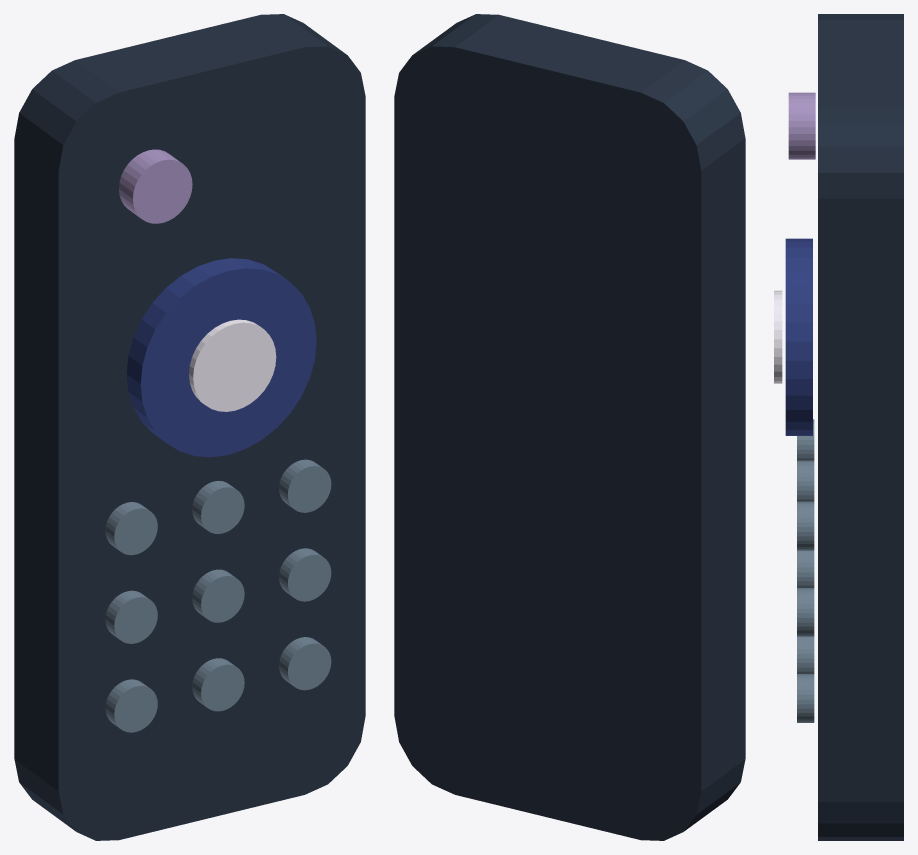
The model's file is remote.glb.
The picture shows the model from 3 angles, left to right: view 1: azimuth 30°, elevation 25°; view 2: azimuth 150°, elevation 25°; view 3: azimuth 270°, elevation 25°; orthographic projection. The views are drawn at different scales.
Visible parts, largest first — view 1: housing, direction ring, ok button, power key, key 1-2, key 0-2, key 1-1, key 0-1, key 2-1, key 0-0, key 2-0, key 1-0 (+1 smaller); view 2: housing; view 3: housing, direction ring, power key, key 2-0, key 2-1, key 2-2, ok button, key 1-0, key 1-1, key 1-2, key 0-0.
Boxes of the visible parts, left/top/right/bottom form: housing: left=14, top=14, right=365, bottom=840; direction ring: left=126, top=258, right=316, bottom=457; ok button: left=189, top=319, right=276, bottom=411; power key: left=119, top=149, right=192, bottom=223; key 1-2: left=192, top=658, right=244, bottom=711; key 0-2: left=105, top=679, right=157, bottom=732; key 1-1: left=192, top=569, right=244, bottom=622; key 0-1: left=105, top=590, right=157, bottom=643; key 2-1: left=279, top=548, right=331, bottom=601; key 0-0: left=105, top=502, right=157, bottom=555; key 2-0: left=279, top=459, right=331, bottom=512; key 1-0: left=192, top=480, right=244, bottom=533; housing: left=394, top=14, right=745, bottom=840; housing: left=818, top=14, right=903, bottom=840; direction ring: left=785, top=238, right=812, bottom=435; power key: left=788, top=92, right=815, bottom=159; key 2-0: left=797, top=501, right=814, bottom=550; key 2-1: left=797, top=588, right=814, bottom=636; key 2-2: left=797, top=674, right=814, bottom=722; ok button: left=774, top=290, right=782, bottom=383; key 1-0: left=797, top=460, right=814, bottom=501; key 1-1: left=797, top=550, right=814, bottom=587; key 1-2: left=797, top=636, right=814, bottom=673; key 0-0: left=797, top=419, right=814, bottom=460.
Bounding box in the file's own units: 0.76 × 1.77 × 0.287.
